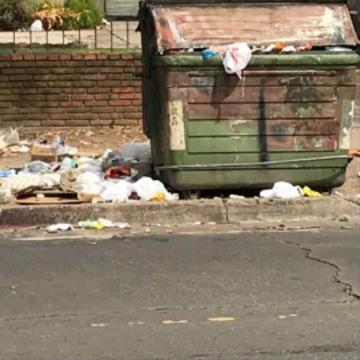Dechets: (0, 128, 149, 207), (204, 42, 251, 78), (44, 219, 129, 235)
Trash: (135, 1, 354, 197)
